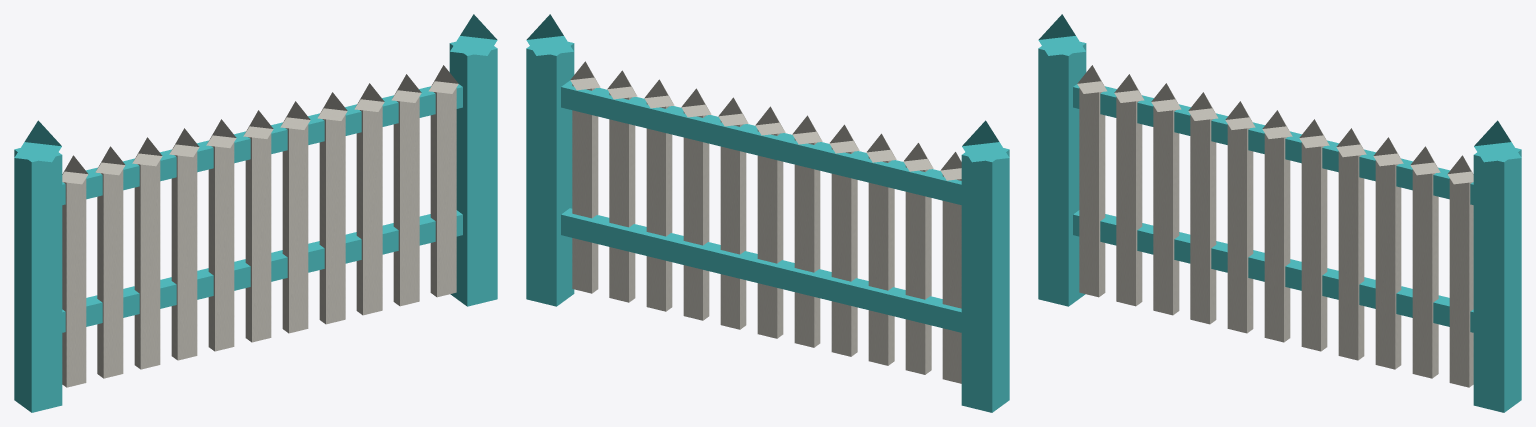
Rendered from theme-park-rides-and-coasters-theme-park-rides-and-coa-5686f488__28712.glb.
3 views of the same model, side by side, from view 1: azimuth 30°, elevation 25°; view 2: azimuth 150°, elevation 25°; view 3: azimuth 330°, elevation 25° (orthographic).
Visible parts, largest first — view 1: theme-park-rides-and-coasters-fence-panel; view 2: theme-park-rides-and-coasters-fence-panel; view 3: theme-park-rides-and-coasters-fence-panel.
Boxes of the visible parts, left/top/right/bottom form: theme-park-rides-and-coasters-fence-panel: left=14, top=14, right=497, bottom=412; theme-park-rides-and-coasters-fence-panel: left=526, top=14, right=1009, bottom=412; theme-park-rides-and-coasters-fence-panel: left=1038, top=14, right=1521, bottom=412.
Size of the model in its own units: 2.22 by 1.24 by 0.2201.
2 materials, 1 textured.
